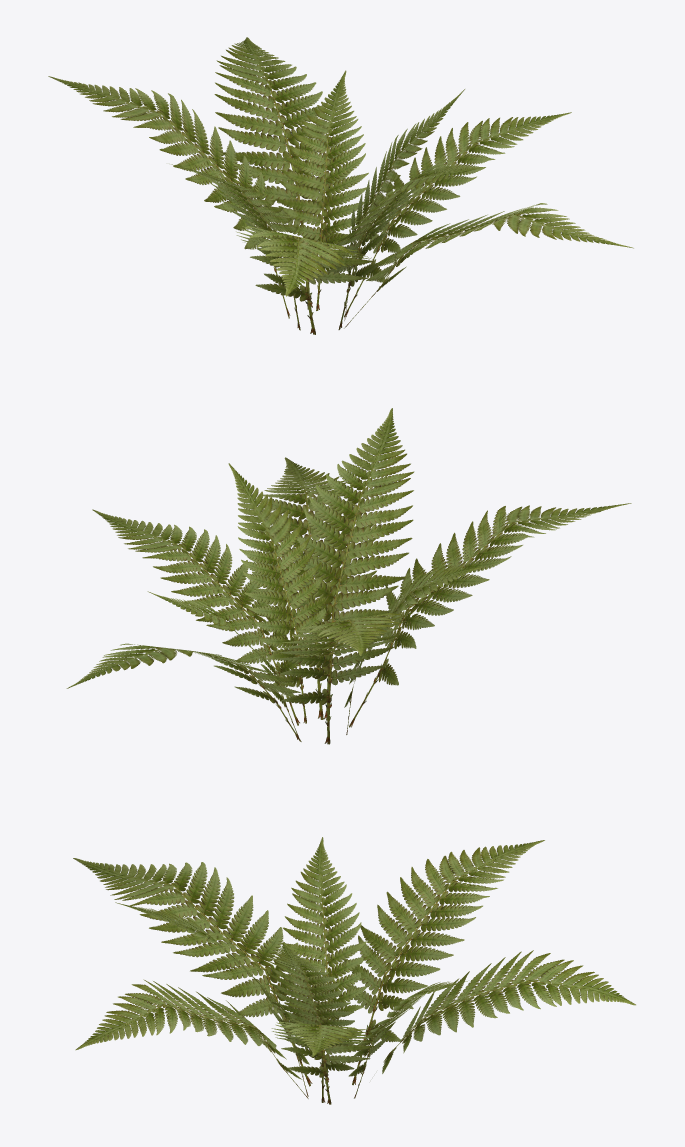
File: fern_small_a_lod1.gltf
3 renders of one model, top to bottom at view 1: azimuth 30°, elevation 25°; view 2: azimuth 150°, elevation 25°; view 3: azimuth 270°, elevation 25°, orthographic. The views are drawn at different scales.
Visible parts, largest first — view 1: fern_small_a_LOD1; view 2: fern_small_a_LOD1; view 3: fern_small_a_LOD1.
Part boxes in pixels (<box>): fern_small_a_LOD1: <box>48,37,633,334</box>; fern_small_a_LOD1: <box>66,408,631,744</box>; fern_small_a_LOD1: <box>73,837,635,1104</box>.
Bounding box in the file's own units: 0.6353 × 0.2946 × 0.7934.
1 material, 1 textured.
